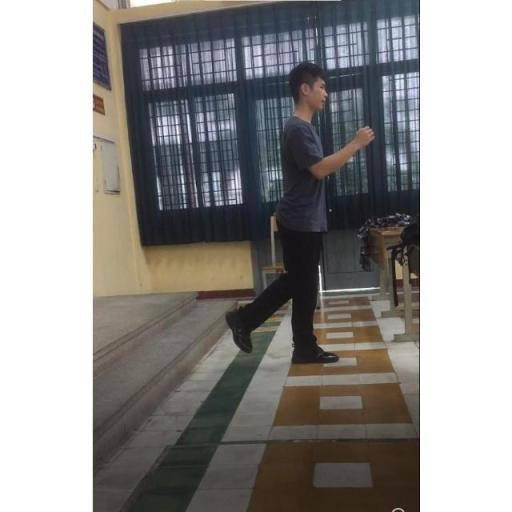Running: (222, 58, 380, 374)
